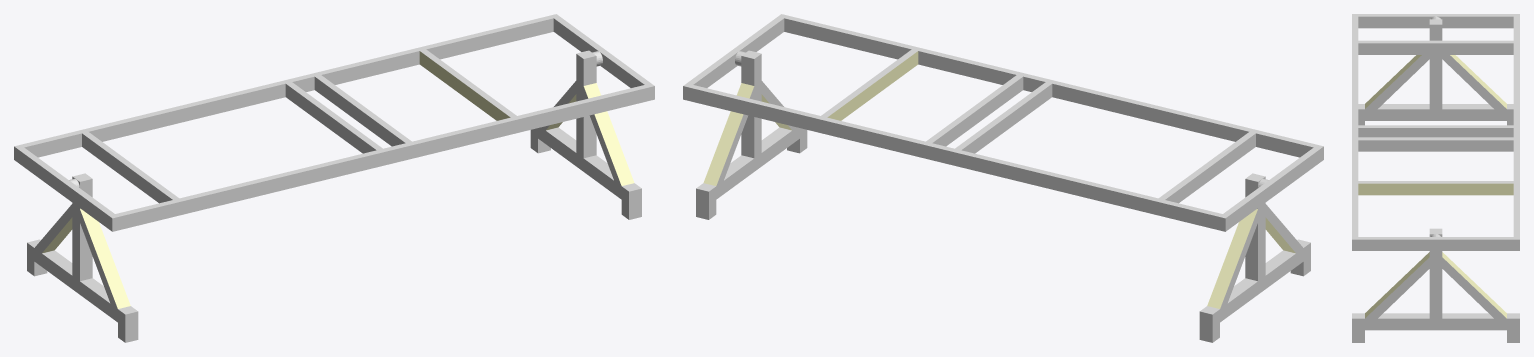
Rendered from meca.etabli.36.glb.
3 views of the same model, side by side, from view 1: azimuth 30°, elevation 25°; view 2: azimuth 150°, elevation 25°; view 3: azimuth 270°, elevation 25° (orthographic). The views are drawn at different scales.
Visible parts, largest first — view 1: imagetostl_mesh43, imagetostl_mesh39, imagetostl_mesh86, imagetostl_mesh4, imagetostl_mesh114, imagetostl_mesh121, imagetostl_mesh96, imagetostl_mesh71, imagetostl_mesh122, imagetostl_mesh50, imagetostl_mesh124, imagetostl_mesh115 (+7 smaller); view 2: imagetostl_mesh43, imagetostl_mesh77, imagetostl_mesh86, imagetostl_mesh4, imagetostl_mesh113, imagetostl_mesh117, imagetostl_mesh96, imagetostl_mesh73, imagetostl_mesh118, imagetostl_mesh47, imagetostl_mesh124, imagetostl_mesh115 (+7 smaller); view 3: imagetostl_mesh43, imagetostl_mesh13, imagetostl_mesh65, imagetostl_mesh119, imagetostl_mesh40, imagetostl_mesh111, imagetostl_mesh125, imagetostl_mesh116, imagetostl_mesh64, imagetostl_mesh108, imagetostl_mesh47, imagetostl_mesh50 (+6 smaller).
Boxes of the visible parts, left/top/right/bottom form: imagetostl_mesh43: left=14, top=14, right=654, bottom=218; imagetostl_mesh39: left=112, top=86, right=654, bottom=231; imagetostl_mesh86: left=27, top=203, right=125, bottom=342; imagetostl_mesh4: left=530, top=54, right=628, bottom=219; imagetostl_mesh114: left=89, top=84, right=285, bottom=141; imagetostl_mesh121: left=426, top=18, right=553, bottom=59; imagetostl_mesh96: left=14, top=146, right=112, bottom=231; imagetostl_mesh71: left=80, top=209, right=130, bottom=308; imagetostl_mesh122: left=321, top=51, right=419, bottom=84; imagetostl_mesh50: left=583, top=83, right=634, bottom=185; imagetostl_mesh124: left=314, top=77, right=405, bottom=146; imagetostl_mesh115: left=285, top=84, right=376, bottom=153; imagetostl_mesh43: left=683, top=14, right=1323, bottom=218; imagetostl_mesh77: left=683, top=86, right=1225, bottom=231; imagetostl_mesh86: left=1212, top=203, right=1310, bottom=342; imagetostl_mesh4: left=709, top=54, right=807, bottom=219; imagetostl_mesh113: left=1052, top=84, right=1248, bottom=141; imagetostl_mesh117: left=784, top=18, right=911, bottom=59; imagetostl_mesh96: left=1225, top=146, right=1323, bottom=231; imagetostl_mesh73: left=1207, top=209, right=1257, bottom=308; imagetostl_mesh118: left=918, top=51, right=1016, bottom=84; imagetostl_mesh47: left=703, top=83, right=754, bottom=185; imagetostl_mesh124: left=932, top=77, right=1023, bottom=146; imagetostl_mesh115: left=961, top=84, right=1052, bottom=153; imagetostl_mesh43: left=1352, top=14, right=1519, bottom=239; imagetostl_mesh13: left=1352, top=251, right=1519, bottom=342; imagetostl_mesh65: left=1358, top=24, right=1513, bottom=125; imagetostl_mesh119: left=1358, top=183, right=1513, bottom=195; imagetostl_mesh40: left=1352, top=239, right=1519, bottom=250; imagetostl_mesh111: left=1358, top=43, right=1513, bottom=54; imagetostl_mesh125: left=1358, top=140, right=1513, bottom=151; imagetostl_mesh116: left=1358, top=128, right=1513, bottom=137; imagetostl_mesh64: left=1358, top=16, right=1434, bottom=28; imagetostl_mesh108: left=1437, top=16, right=1513, bottom=28; imagetostl_mesh47: left=1442, top=252, right=1506, bottom=318; imagetostl_mesh50: left=1365, top=252, right=1429, bottom=318.
Size of the model in its own units: 3.31 by 0.7441 by 1.04.
